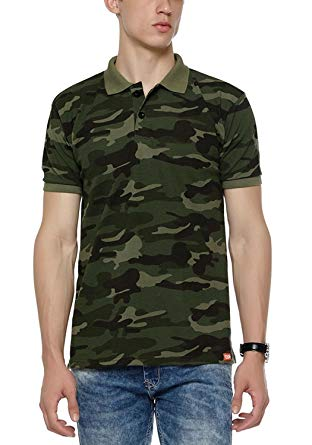T-Shirt: (38, 53, 270, 371)
